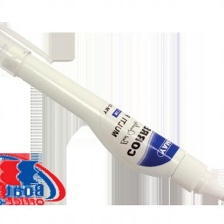correction_fluid: (0, 16, 224, 205)
